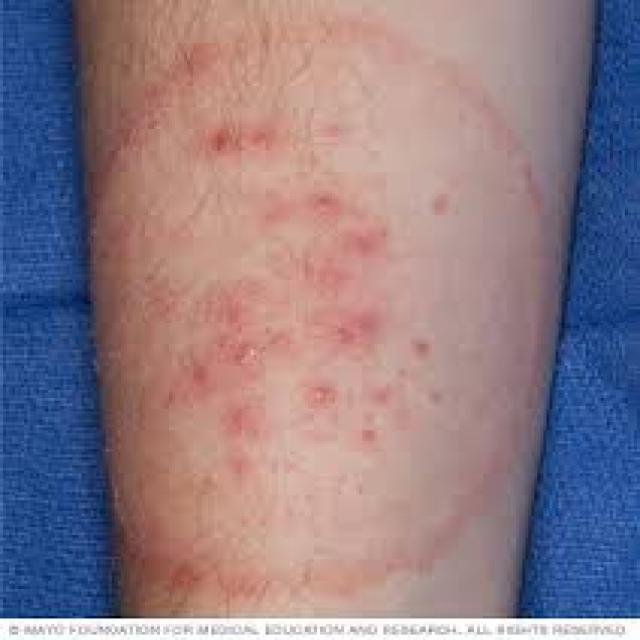Eczema: (91, 22, 549, 591)
